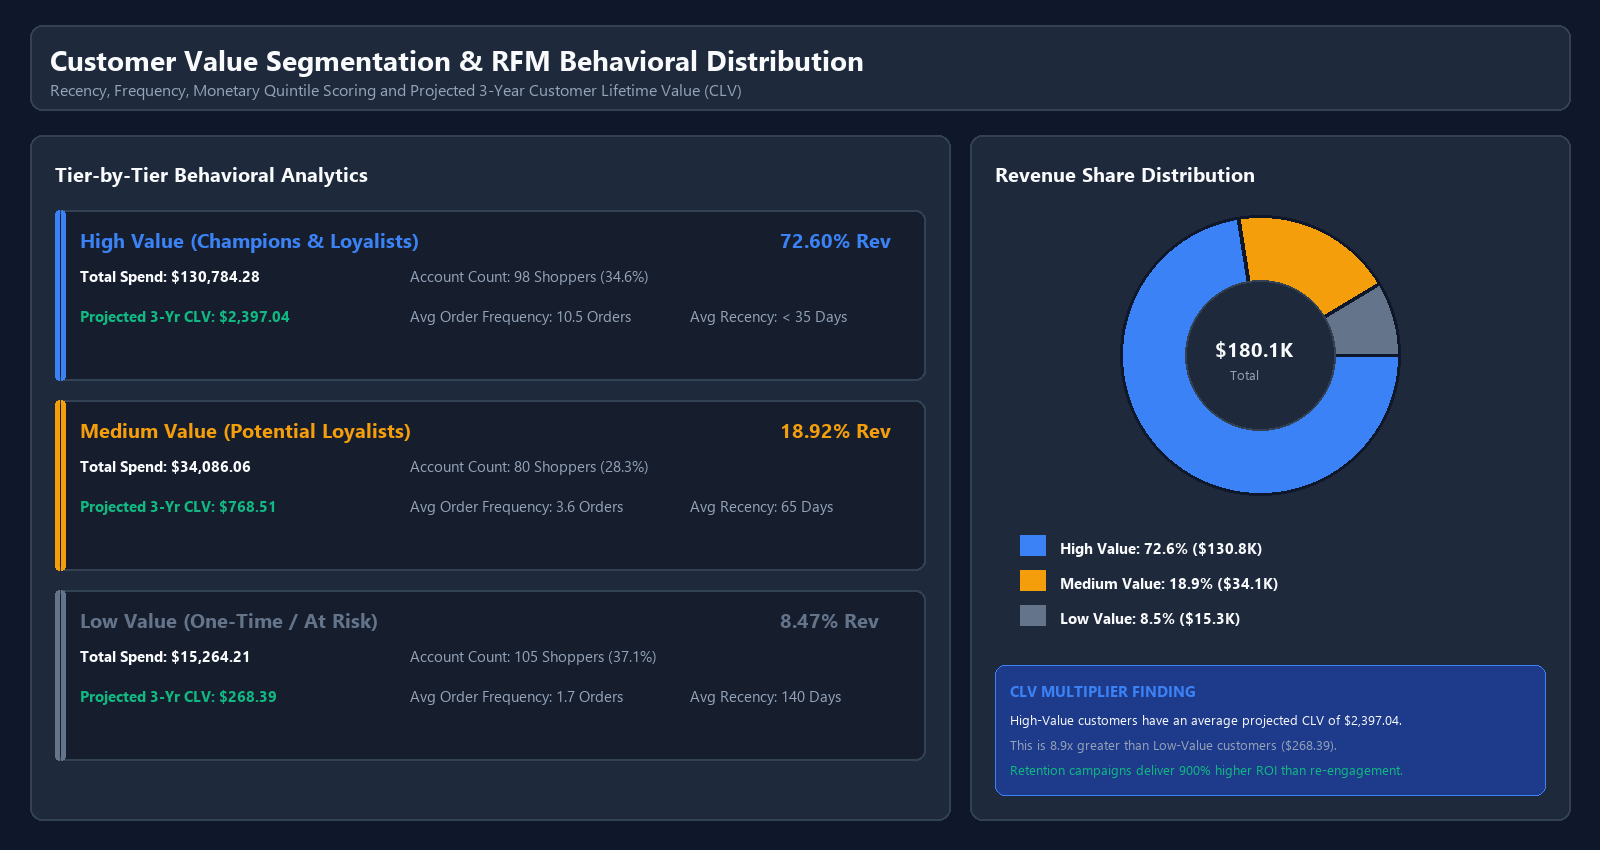

What the dashboard file says about the page in this screenshot:
{"tool":"powerbi","page":{"name":"Page 1","canvas":[1920,1080],"ordinal":0},"visuals":[{"type":"cardVisual","fields":{"Data":["Sum(sales_summary.total_amount)"]},"box":[60,82.5,480,440],"z":0},{"type":"columnChart","fields":{"Category":["sales_summary.category"],"Y":["Sum(sales_summary.total_amount)"]},"box":[640,82.5,480,440],"z":1000},{"type":"donutChart","fields":{"Category":["customer_segments.customer_segment"],"Y":["Sum(sales_summary.total_amount)"]},"box":[60,533,480,440],"z":1001}]}

Visuals, with their boxes on the page's 1920x1080 design canvas (x1, y1, x2, y2). These are canvas units, not pixel positions in the 1600x850 screenshot, which may show the page scaled, cropped or inside an application window:
cardVisual - Sum(sales_summary.total_amount): bbox(60, 82, 540, 522)
columnChart - sales_summary.category x Sum(sales_summary.total_amount): bbox(640, 82, 1120, 522)
donutChart - customer_segments.customer_segment x Sum(sales_summary.total_amount): bbox(60, 533, 540, 973)
